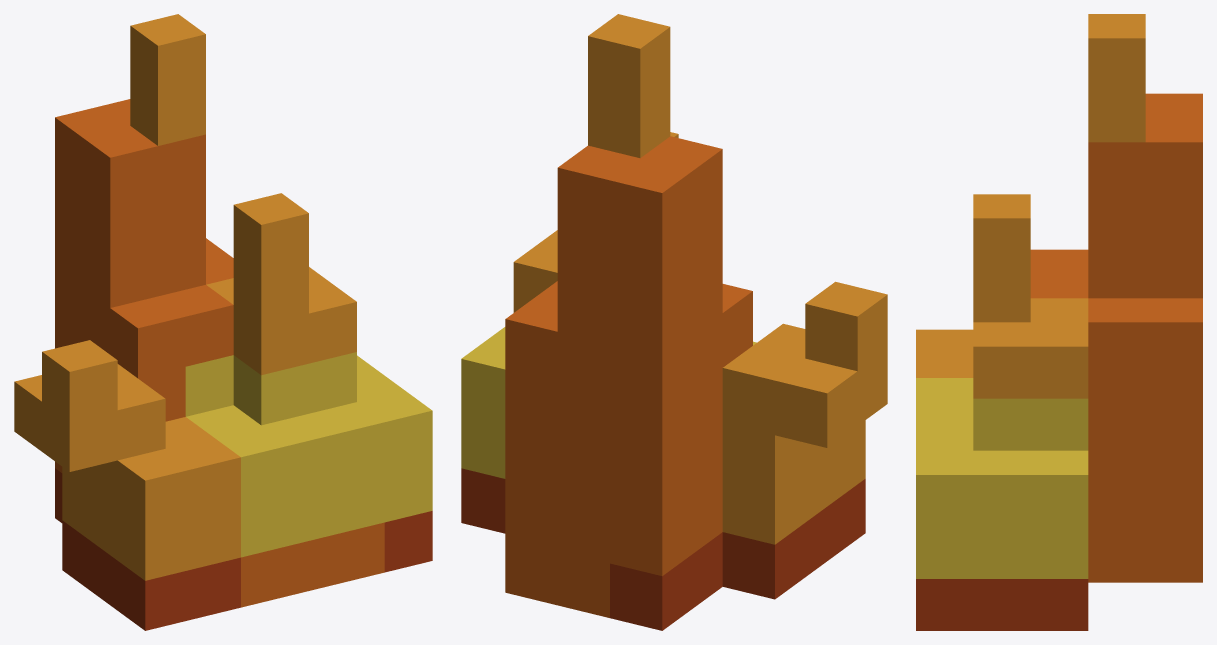
File: flame_04.glb
3 views of the same model, side by side, from view 1: azimuth 30°, elevation 25°; view 2: azimuth 150°, elevation 25°; view 3: azimuth 270°, elevation 25° (orthographic). The views are drawn at different scales.
Visible parts, largest first — view 1: flame_04; view 2: flame_04; view 3: flame_04.
Part boxes in pixels (left/top/right/bottom): flame_04: left=14, top=14, right=432, bottom=630; flame_04: left=461, top=14, right=887, bottom=630; flame_04: left=916, top=14, right=1202, bottom=630.
Size of the model in its own units: 0.875 by 1.25 by 0.625.
